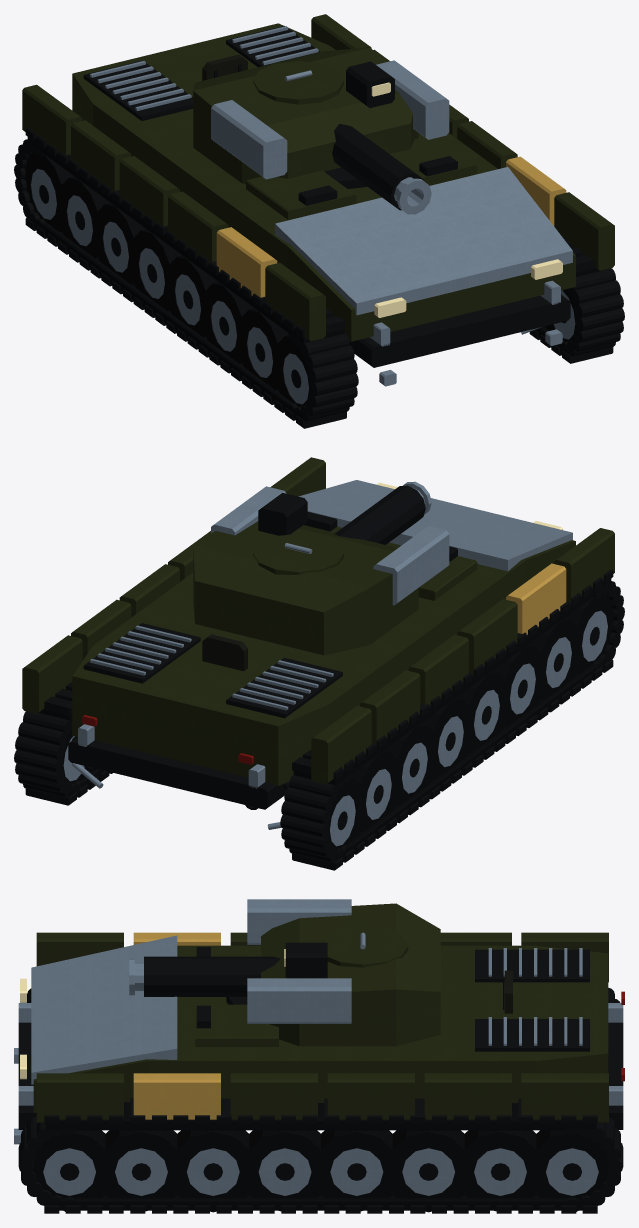
File: titan-lod1.glb
3 views of the same model, one above another, from view 1: azimuth 30°, elevation 25°; view 2: azimuth 150°, elevation 25°; view 3: azimuth 270°, elevation 25° (orthographic).
Parts seen in each view (by area): view 1: body, turret, wheel_5, wheel_1, wheel_6, wheel_2, wheel_4, wheel_3, wheel_0, wheel_7, wheel_15; view 2: body, turret, wheel_1, wheel_6, wheel_2, wheel_3, wheel_5, wheel_4, wheel_7, wheel_0; view 3: body, turret, wheel_10, wheel_13, wheel_12, wheel_14, wheel_11, wheel_9, wheel_8, wheel_15.
Boxes of the visible parts, left/top/right/bottom form: body: left=14, top=14, right=624, bottom=428; turret: left=193, top=47, right=449, bottom=214; wheel_5: left=201, top=282, right=254, bottom=363; wheel_1: left=57, top=176, right=110, bottom=258; wheel_6: left=237, top=308, right=288, bottom=390; wheel_2: left=96, top=203, right=145, bottom=284; wheel_4: left=165, top=255, right=218, bottom=337; wheel_3: left=134, top=229, right=182, bottom=311; wheel_0: left=24, top=153, right=73, bottom=232; wheel_7: left=275, top=335, right=332, bottom=414; wheel_15: left=545, top=289, right=611, bottom=350; body: left=14, top=457, right=624, bottom=870; turret: left=193, top=481, right=449, bottom=655; wheel_1: left=350, top=750, right=400, bottom=831; wheel_6: left=529, top=618, right=580, bottom=700; wheel_2: left=385, top=723, right=437, bottom=805; wheel_3: left=421, top=697, right=473, bottom=779; wheel_5: left=493, top=644, right=545, bottom=726; wheel_4: left=457, top=671, right=509, bottom=752; wheel_7: left=565, top=595, right=614, bottom=673; wheel_0: left=294, top=777, right=364, bottom=856; body: left=14, top=932, right=624, bottom=1213; turret: left=129, top=899, right=440, bottom=1046; wheel_10: left=384, top=1130, right=472, bottom=1212; wheel_13: left=169, top=1130, right=256, bottom=1212; wheel_12: left=241, top=1130, right=328, bottom=1211; wheel_14: left=97, top=1130, right=185, bottom=1211; wheel_11: left=313, top=1130, right=400, bottom=1211; wheel_9: left=456, top=1130, right=544, bottom=1211; wheel_8: left=528, top=1130, right=608, bottom=1210; wheel_15: left=33, top=1130, right=113, bottom=1210.
Bounding box in the file's own units: 2.98 × 1.96 × 5.11.
8 materials, 7 textured.
